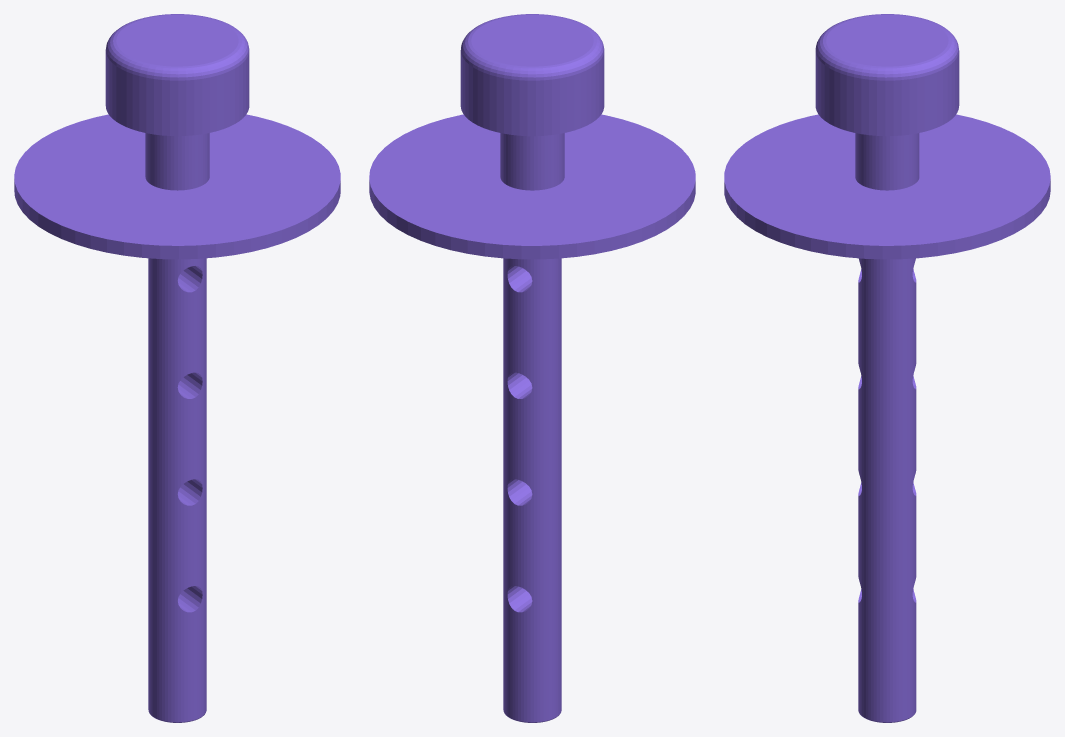
The model's file is xyma6.glb.
3 renders of one model, left to right at view 1: azimuth 30°, elevation 25°; view 2: azimuth 150°, elevation 25°; view 3: azimuth 270°, elevation 25°, orthographic.
Visible parts, largest first — view 1: Circle; view 2: Circle; view 3: Circle.
Part boxes in pixels (box(x1,y1,x2,y2)): Circle: box(14, 14, 340, 722); Circle: box(369, 14, 695, 722); Circle: box(724, 14, 1050, 722).
Bounding box in the file's own units: 4.55 × 10.3 × 4.55.
